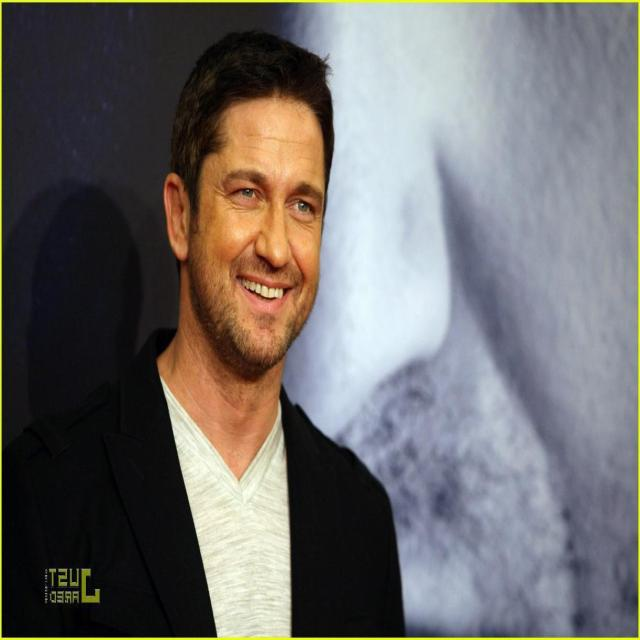no-earmuff: (156, 166, 208, 282)
